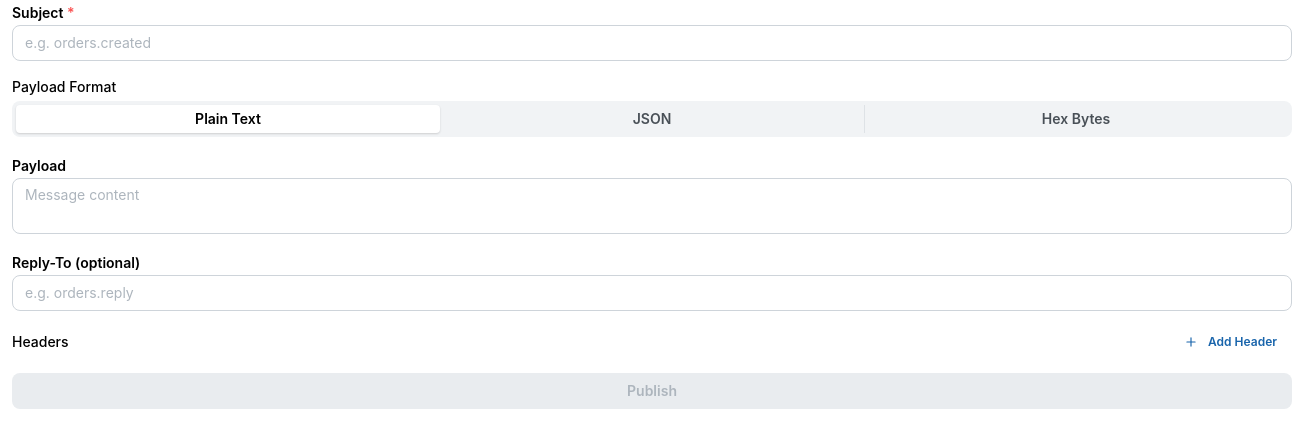
Test case: JSON format with invalid JSON disables submit
Note: Fill subject
Type "test.subject" into the field labelled "Subject *".
click(652, 43); type("test.subject")  # box [12,25,1292,61]
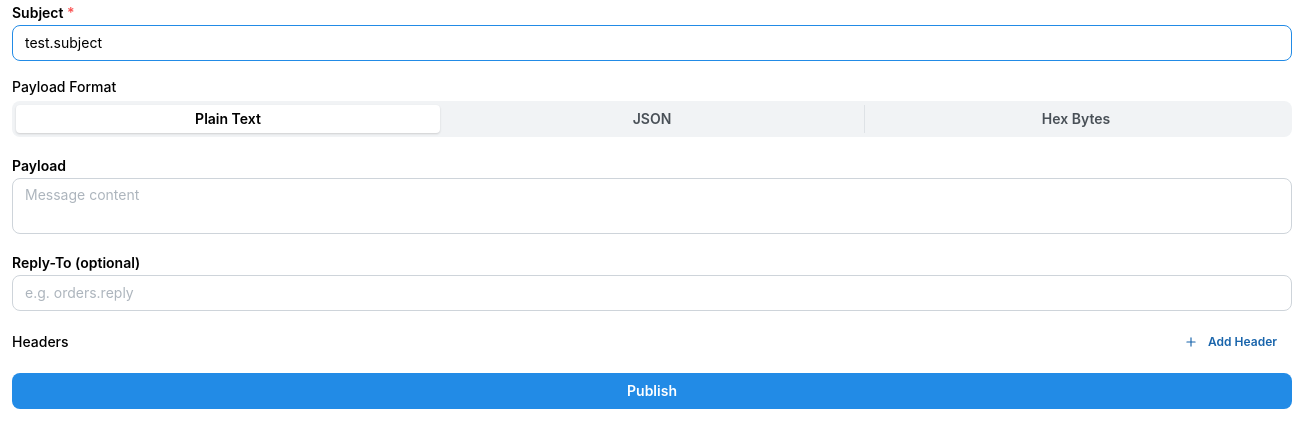
Note: Select JSON format
Click the radio button labelled "JSON".
click(652, 119)  # box [633,110,671,127]
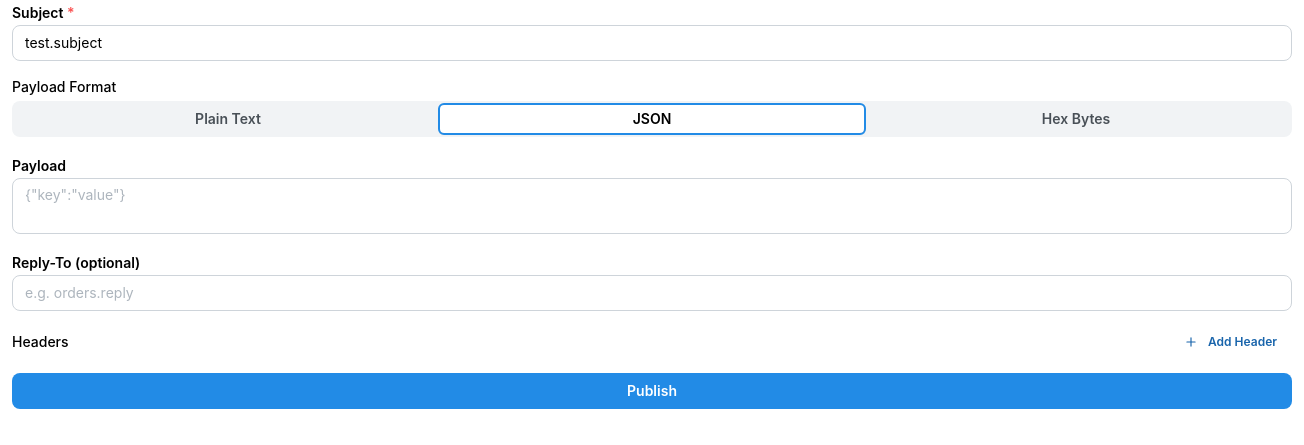
Note: Type invalid JSON
Type "not-json" into the text box labelled "Payload".
click(652, 206); type("not-json")  # box [12,178,1292,234]
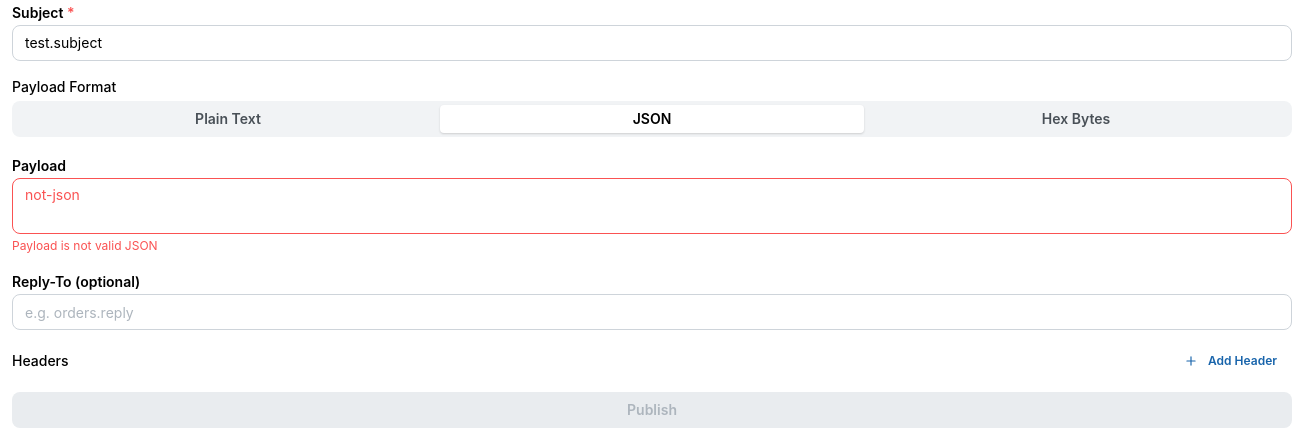
Result: the text "Payload is not valid JSON" is shown at [12,238,158,253]
Result: the button "Publish" is disabled at [12,392,1292,428]
